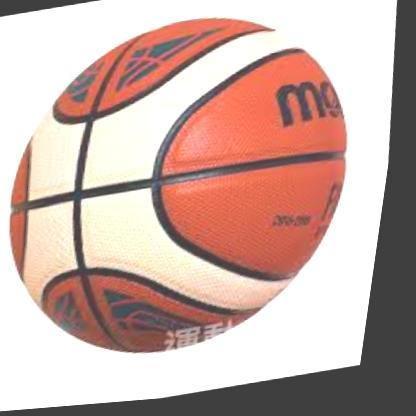basketball: (0, 0, 383, 379)
